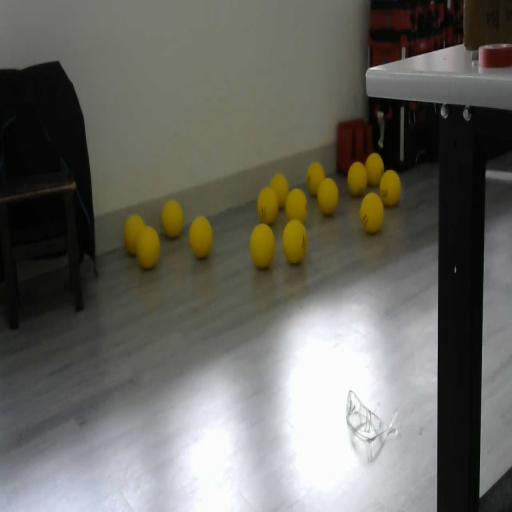FUEL: (249, 221, 276, 270), (282, 217, 308, 264), (188, 215, 214, 259), (360, 192, 384, 233), (123, 213, 146, 255), (161, 198, 184, 239), (284, 187, 308, 225), (317, 177, 339, 216), (379, 169, 401, 206), (347, 160, 368, 197), (270, 173, 290, 209), (364, 152, 385, 186)
